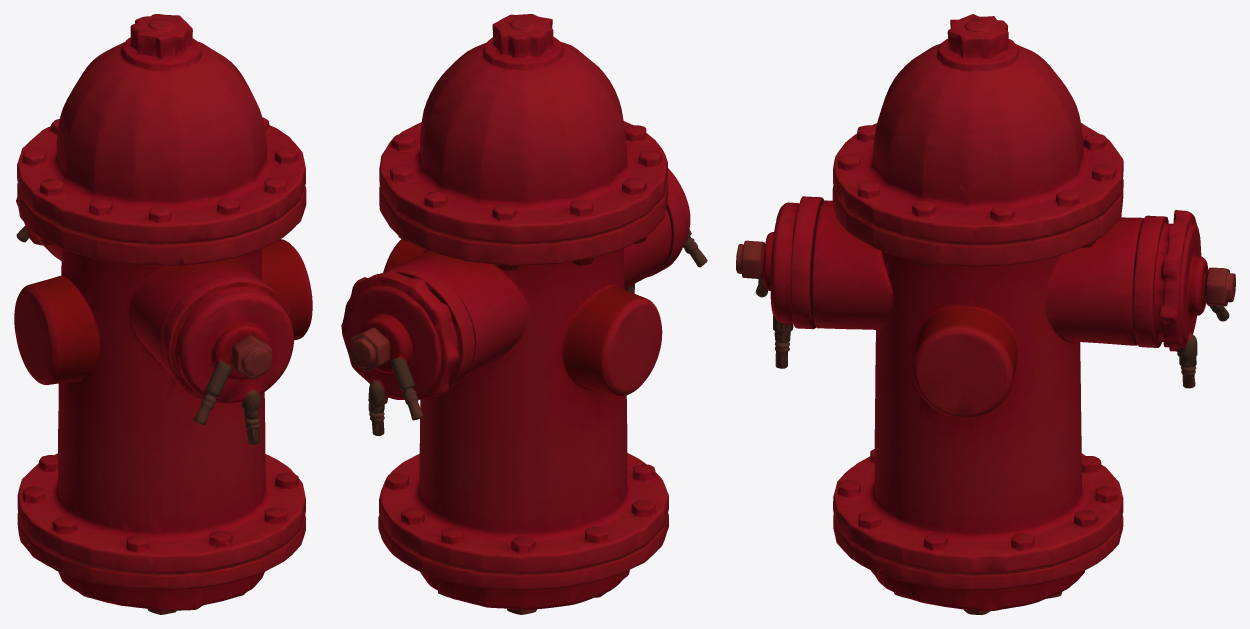
File: fire_hydrant.glb
3 views of the same model, side by side, from view 1: azimuth 30°, elevation 25°; view 2: azimuth 150°, elevation 25°; view 3: azimuth 270°, elevation 25° (orthographic).
Visible parts, largest first — view 1: geometry_0; view 2: geometry_0; view 3: geometry_0.
Boxes of the visible parts, x1=… form: geometry_0: x1=14, y1=14, x2=312, y2=614; geometry_0: x1=341, y1=14, x2=707, y2=614; geometry_0: x1=736, y1=14, x2=1235, y2=614.
Size of the model in its own units: 0.4346 by 0.9 by 0.7403.
Materials: 1 (1 with a texture image).
